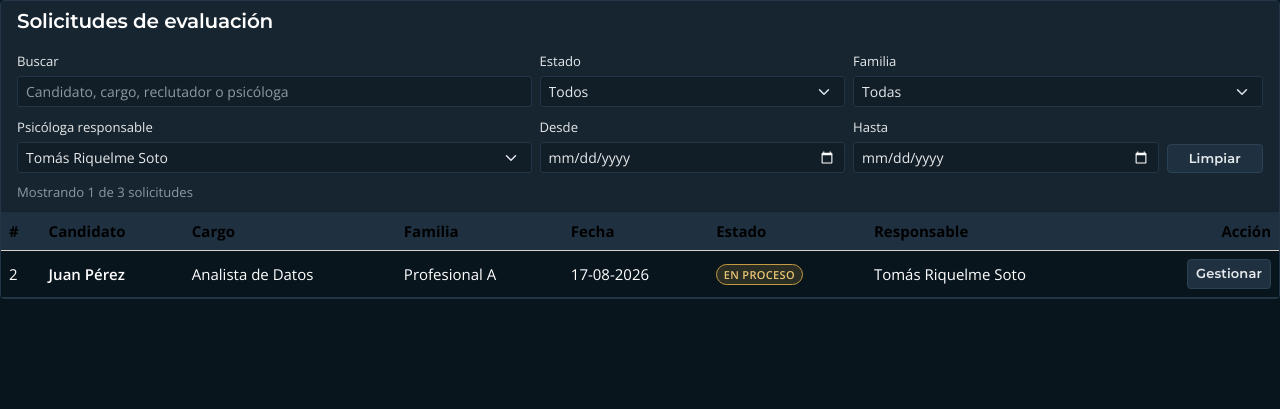
ListaSolicitudes · filtros de responsable y fecha (RF07) › parte filtrada por la responsable indicada y Limpiar quita todos los filtros
Expected: the number of rows is 2, [1,212,1279,250]; [1,250,1279,297]
Step 1. Click the button "Limpiar" → [1215, 158], box [1166,144,1263,173]
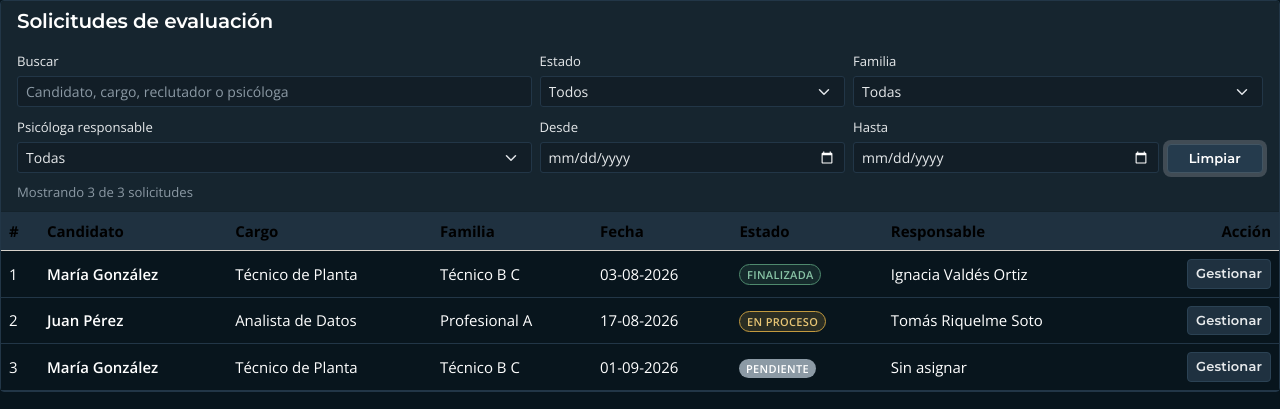
Expected: the number of rows is 4, [1,212,1279,250]; [1,250,1279,297]; [1,297,1279,344]; [1,344,1279,390]
